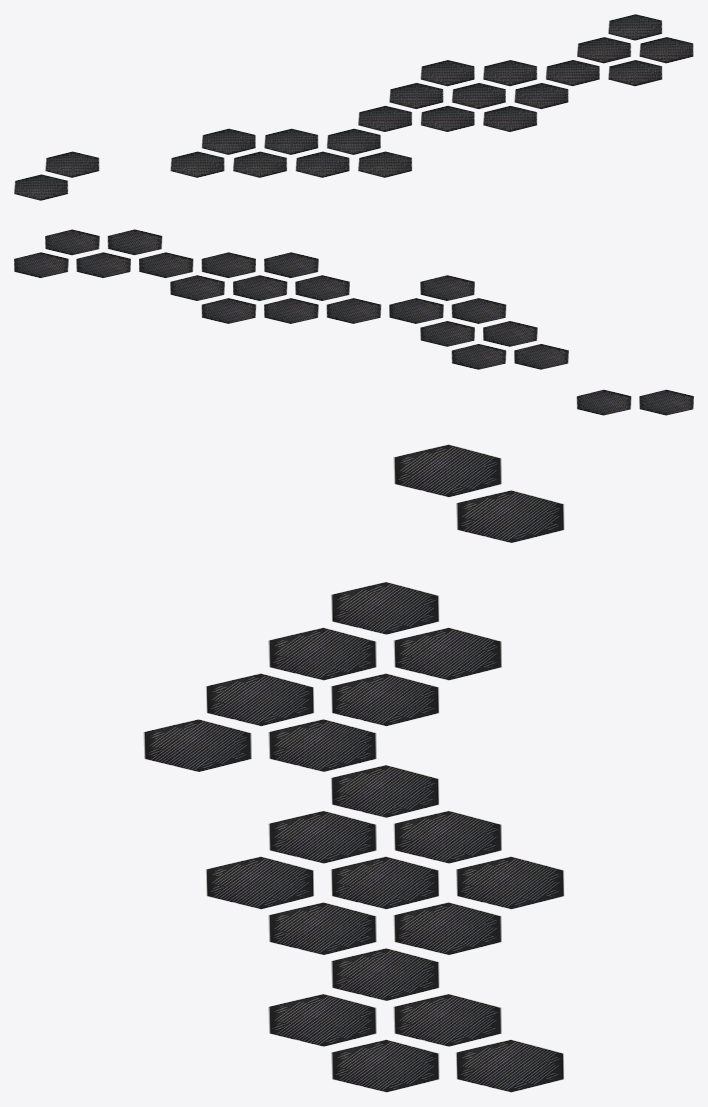
The model's file is guangfubanjiazi03.FBX.
The picture shows the model from 3 angles, top to bottom: view 1: azimuth 30°, elevation 25°; view 2: azimuth 150°, elevation 25°; view 3: azimuth 270°, elevation 25°; orthographic projection. The views are drawn at different scales.
Visible parts, largest first — view 1: Line011, Line016, Line019, Line026, Line013, Line032, Line017, Line012, Line015, Line021, Line031, Line020 (+10 smaller); view 2: Line012, Line030, Line014, Line017, Line020, Line023, Line025, Line016, Line021, Line018, Line029, Line031 (+10 smaller); view 3: Line016, Line013, Line023, Line028, Line012, Line020, Line024, Line032, Line031, Line017, Line027, Line015 (+10 smaller).
Boxes of the visible parts, x1,y1,x2,y2 form: Line011: [14, 174, 68, 200]; Line016: [264, 128, 318, 154]; Line019: [358, 151, 412, 177]; Line026: [483, 60, 537, 86]; Line013: [170, 151, 224, 177]; Line032: [639, 37, 693, 63]; Line017: [295, 151, 349, 177]; Line012: [45, 151, 99, 177]; Line015: [233, 151, 287, 177]; Line021: [389, 82, 443, 109]; Line031: [608, 14, 662, 40]; Line020: [358, 105, 412, 131]; Line012: [576, 389, 631, 415]; Line030: [107, 229, 162, 255]; Line014: [451, 344, 506, 369]; Line017: [451, 298, 506, 323]; Line020: [326, 298, 381, 323]; Line023: [201, 298, 256, 323]; Line025: [264, 252, 318, 278]; Line016: [420, 321, 474, 346]; Line021: [264, 298, 318, 323]; Line018: [389, 298, 443, 323]; Line029: [76, 252, 130, 278]; Line031: [14, 252, 68, 278]; Line016: [330, 673, 439, 726]; Line013: [331, 582, 439, 634]; Line023: [456, 856, 564, 909]; Line028: [331, 948, 439, 1000]; Line012: [456, 490, 564, 542]; Line020: [330, 765, 439, 817]; Line024: [330, 856, 439, 909]; Line032: [331, 1039, 439, 1092]; Line031: [455, 1039, 564, 1092]; Line017: [205, 673, 314, 726]; Line027: [268, 902, 376, 955]; Line015: [268, 627, 376, 680].
Bounding box in the file's own units: 763 × 1.42e-14 × 210.
